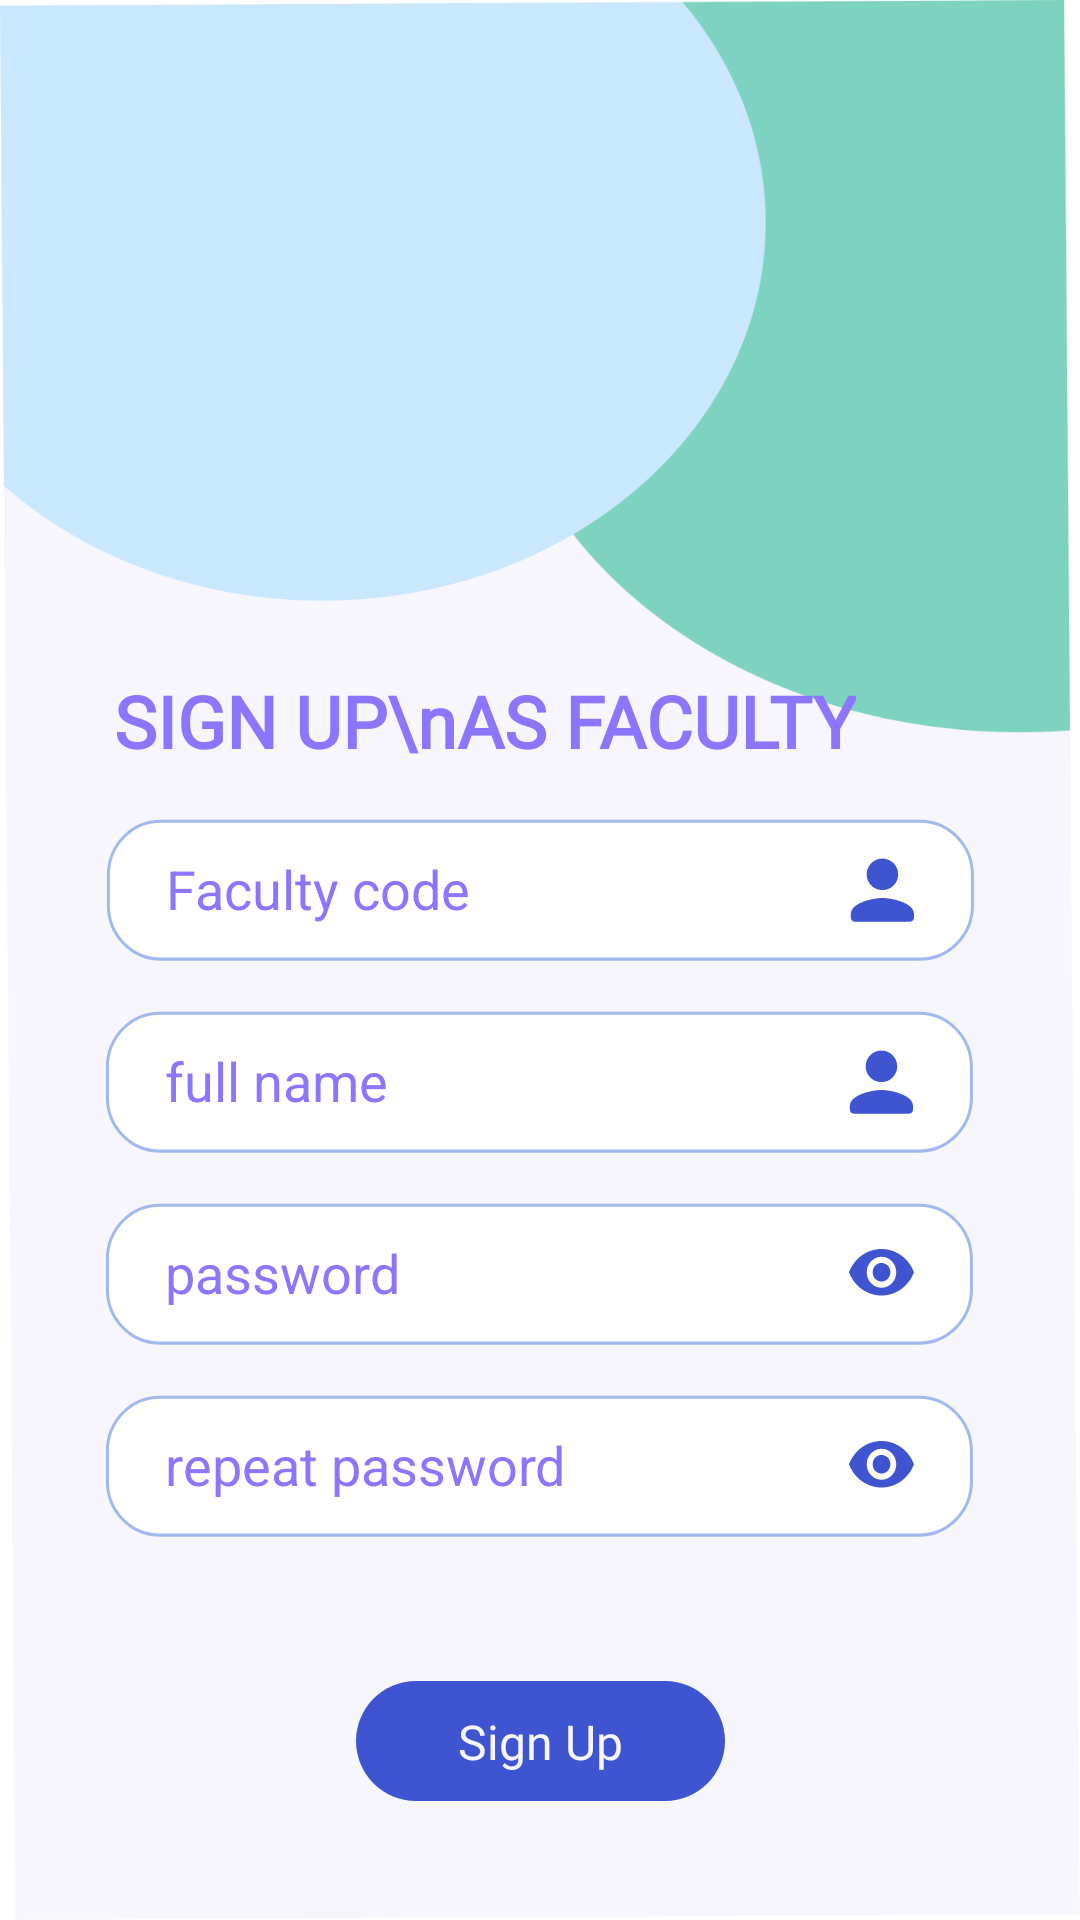

Point at icon controls on the screen. Image size 1080*1920, points as point (x, y).
profile: point (882, 890), point (881, 1082)
visible: point (881, 1272), point (881, 1464)
